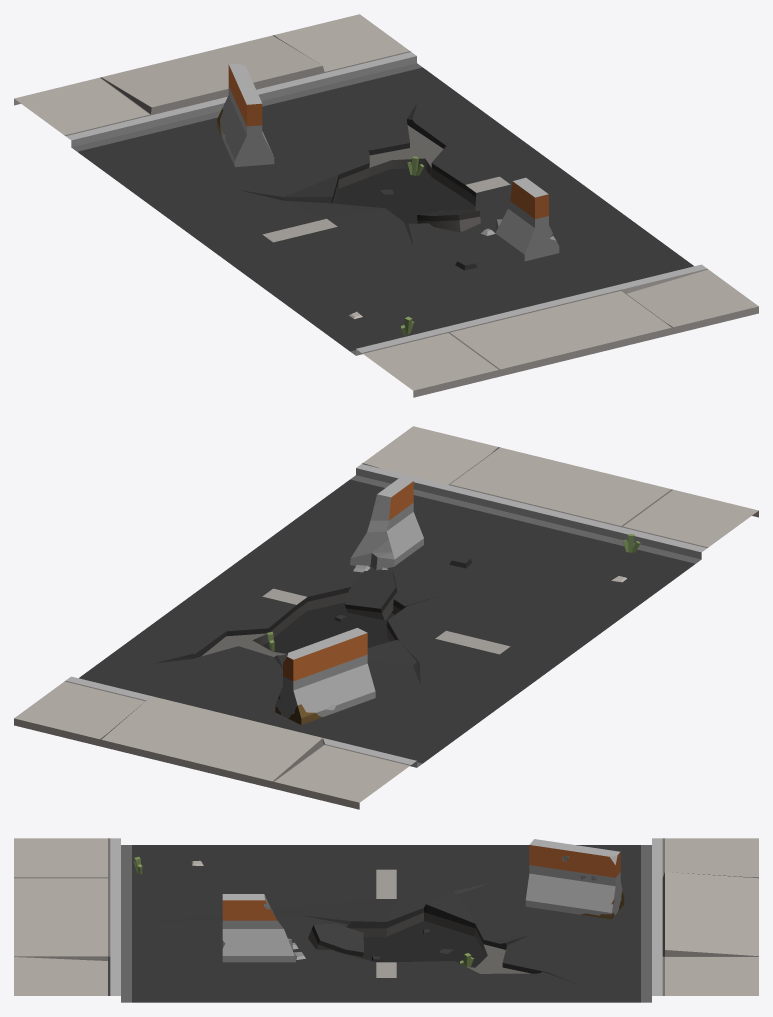
Rendered from SA_Env_RoadStraight_Damaged_04.gltf.
The picture shows the model from 3 angles, top to bottom: view 1: azimuth 30°, elevation 25°; view 2: azimuth 150°, elevation 25°; view 3: azimuth 270°, elevation 25°; orthographic projection. The views are drawn at different scales.
Visible parts, largest first — view 1: SA_Env_RoadStraight_Damaged_04; view 2: SA_Env_RoadStraight_Damaged_04; view 3: SA_Env_RoadStraight_Damaged_04.
Part boxes in pixels (box(x1,y1,x2,y2)): SA_Env_RoadStraight_Damaged_04: box(14, 14, 758, 397); SA_Env_RoadStraight_Damaged_04: box(14, 426, 758, 809); SA_Env_RoadStraight_Damaged_04: box(14, 838, 758, 1002).
Size of the model in its own units: 10 by 2.23 by 20.
1 material, 1 textured.
